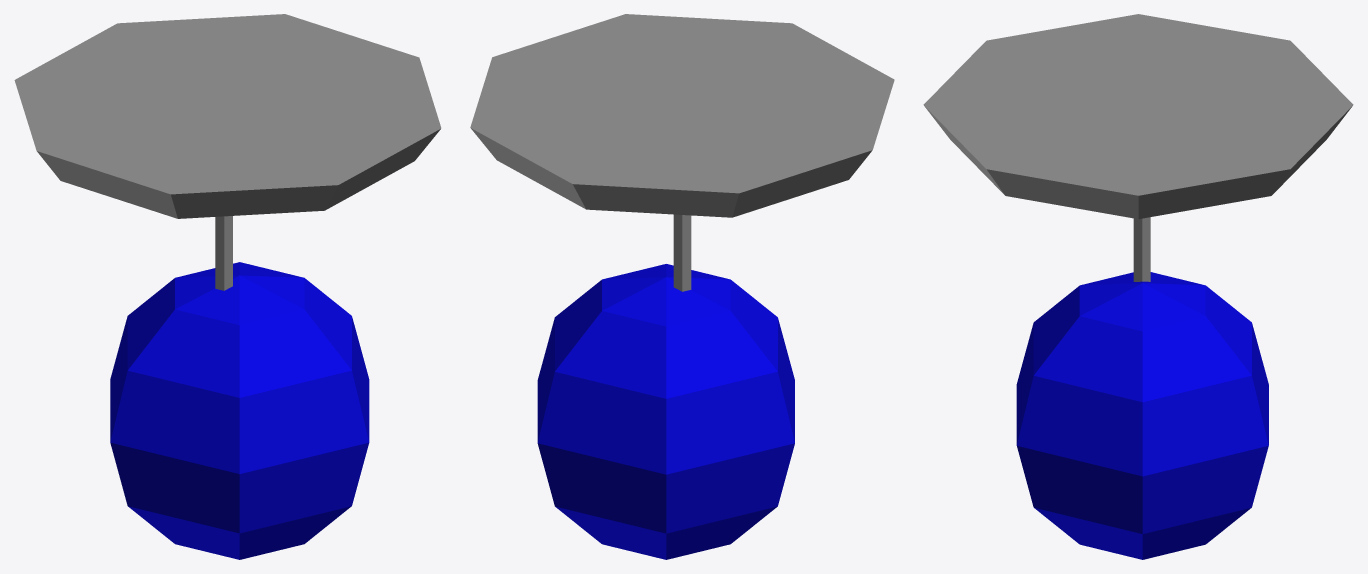
The model's file is Big_Lamp.fbx.
3 views of the same model, side by side, from view 1: azimuth 30°, elevation 25°; view 2: azimuth 150°, elevation 25°; view 3: azimuth 270°, elevation 25° (orthographic). The views are drawn at different scales.
Visible parts, largest first — view 1: pCylinder9; view 2: pCylinder9; view 3: pCylinder9.
Boxes of the visible parts, x1,y1,x2,y2 form: pCylinder9: (14, 14, 441, 559); pCylinder9: (470, 14, 894, 559); pCylinder9: (923, 14, 1353, 559).
Bounding box in the file's own units: 84.08 × 93.89 × 84.08.
